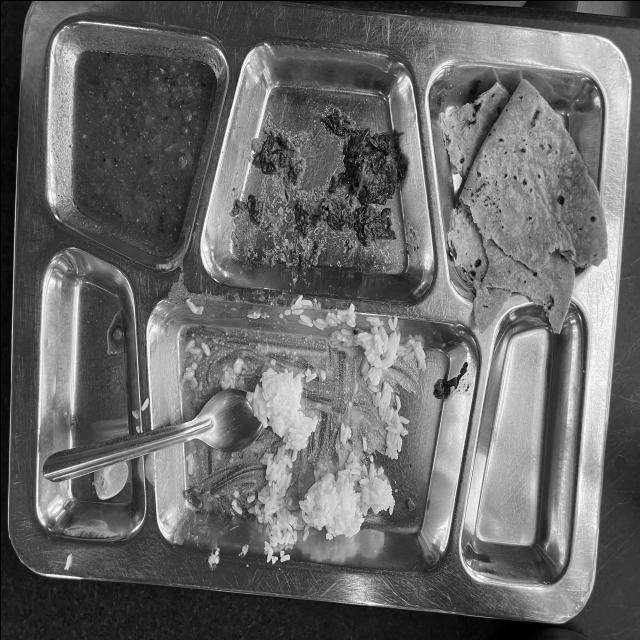50.3- Food Left: (30, 16, 620, 588)
